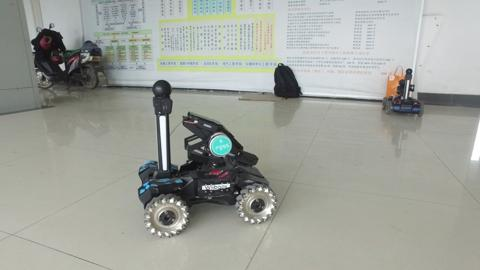bag: (270, 61, 303, 101), (386, 62, 407, 99)
chariot: (135, 78, 278, 239), (380, 66, 424, 119)
